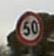limite 50: (14, 10, 43, 46)
